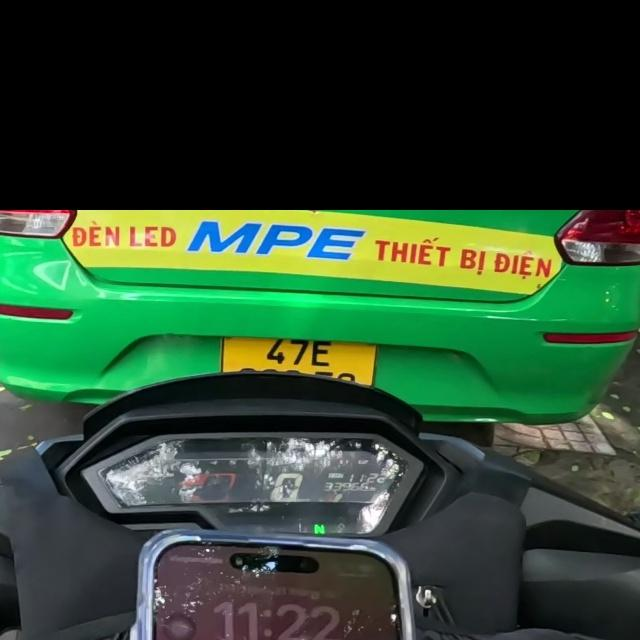license-plate: (222, 338, 376, 385)
